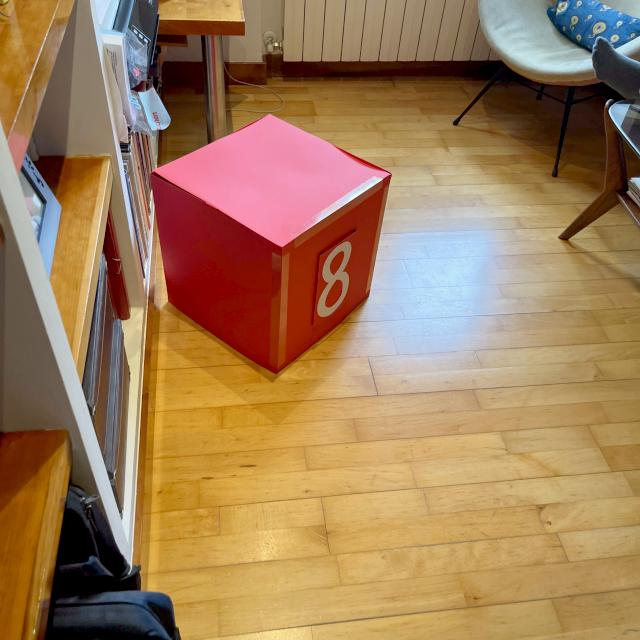box: (148, 110, 394, 378)
